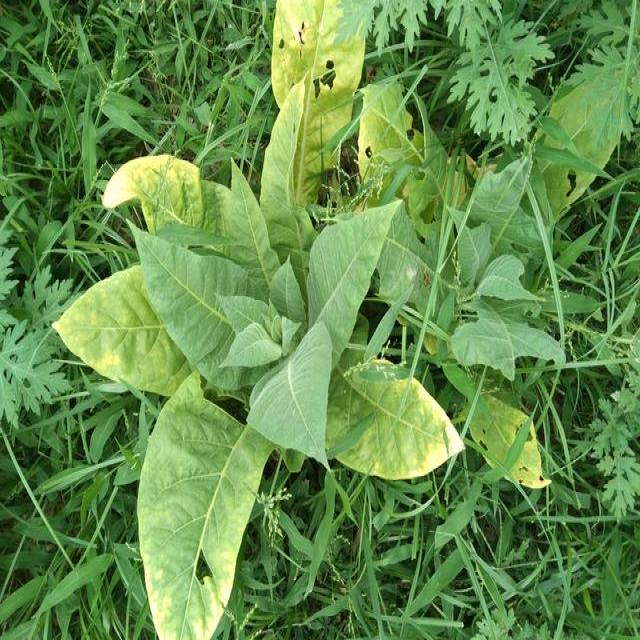crop: (55, 138, 457, 637)
